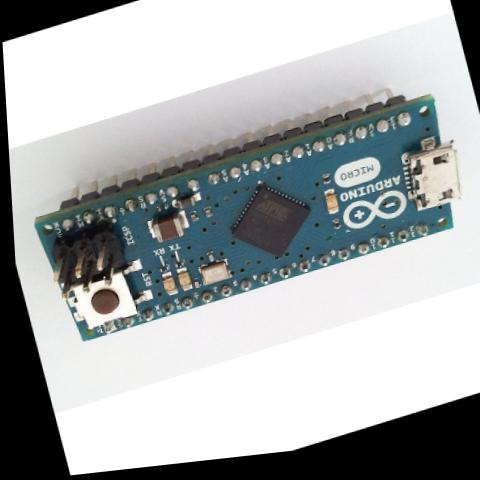Arduino-Micro: (15, 73, 480, 359)
